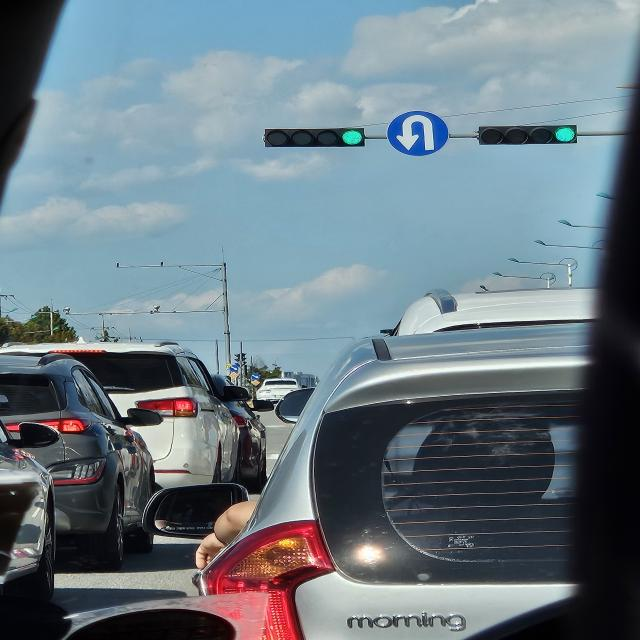Green Light: (340, 128, 364, 147), (554, 125, 577, 144)
